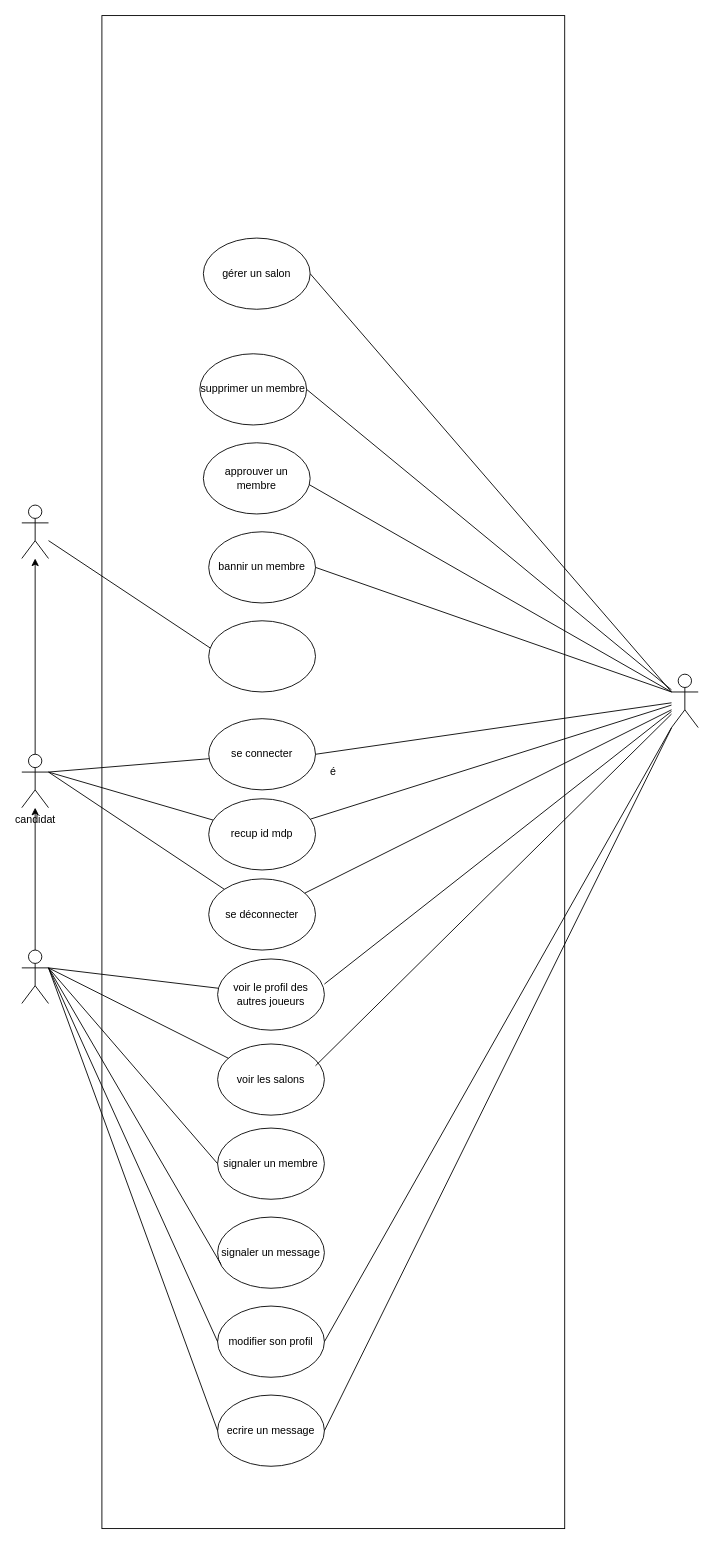
This 715x1544 diagram has some shape labels left out. The shapes that lost their labels are listed below. From the top down, each one's centre as x and y in pixels, then its label:
point (35, 531): visiteur
point (262, 656): s'inscrire
point (684, 700): admin
point (35, 976): membre
